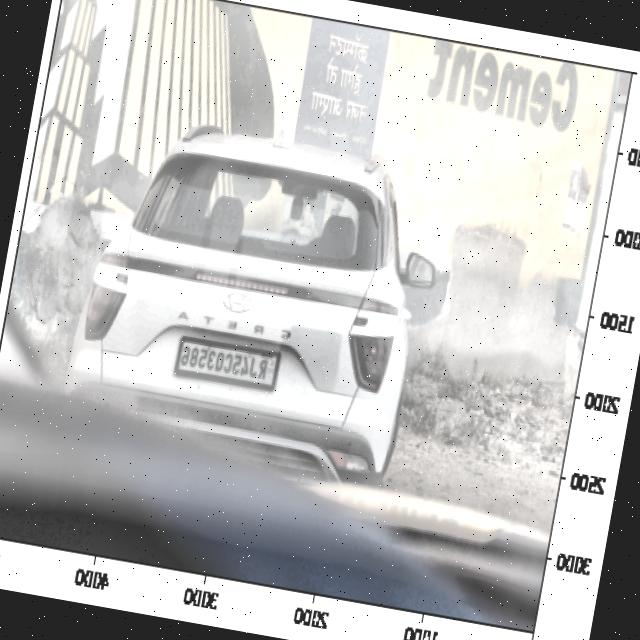license_plate: (174, 338, 272, 390)
